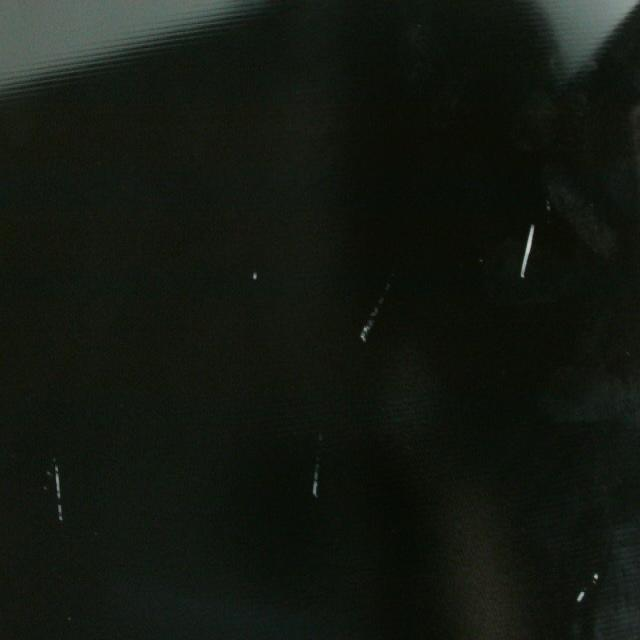scratch: (352, 273, 398, 347), (304, 414, 331, 504), (514, 222, 544, 288), (46, 455, 70, 532), (574, 560, 606, 613)
very small scratch: (246, 260, 262, 283)
